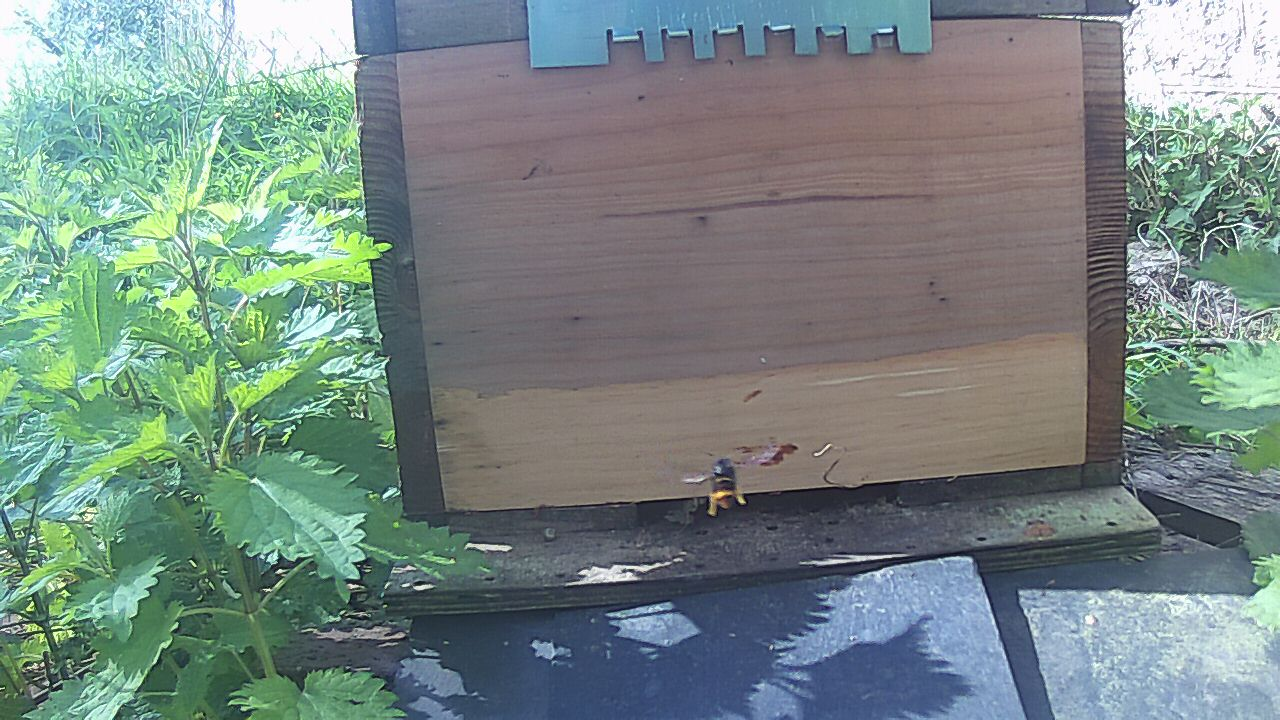hornet: (694, 454, 751, 512)
